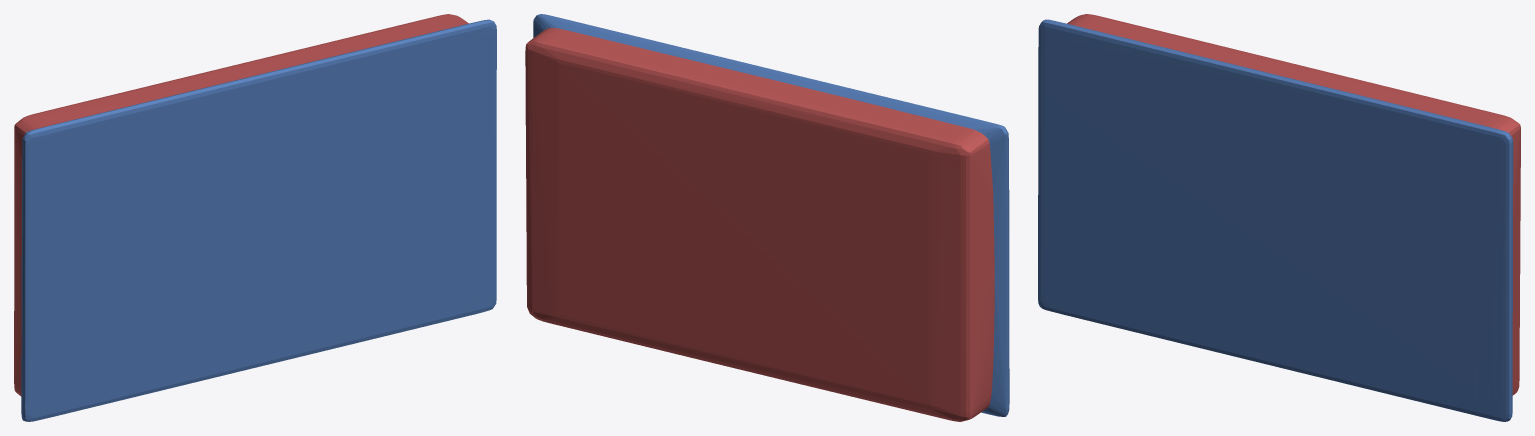
File: hulls.glb
3 views of the same model, side by side, from view 1: azimuth 30°, elevation 25°; view 2: azimuth 150°, elevation 25°; view 3: azimuth 330°, elevation 25° (orthographic).
Bounding box in the file's own units: 0.7632 × 0.4496 × 0.0798.
